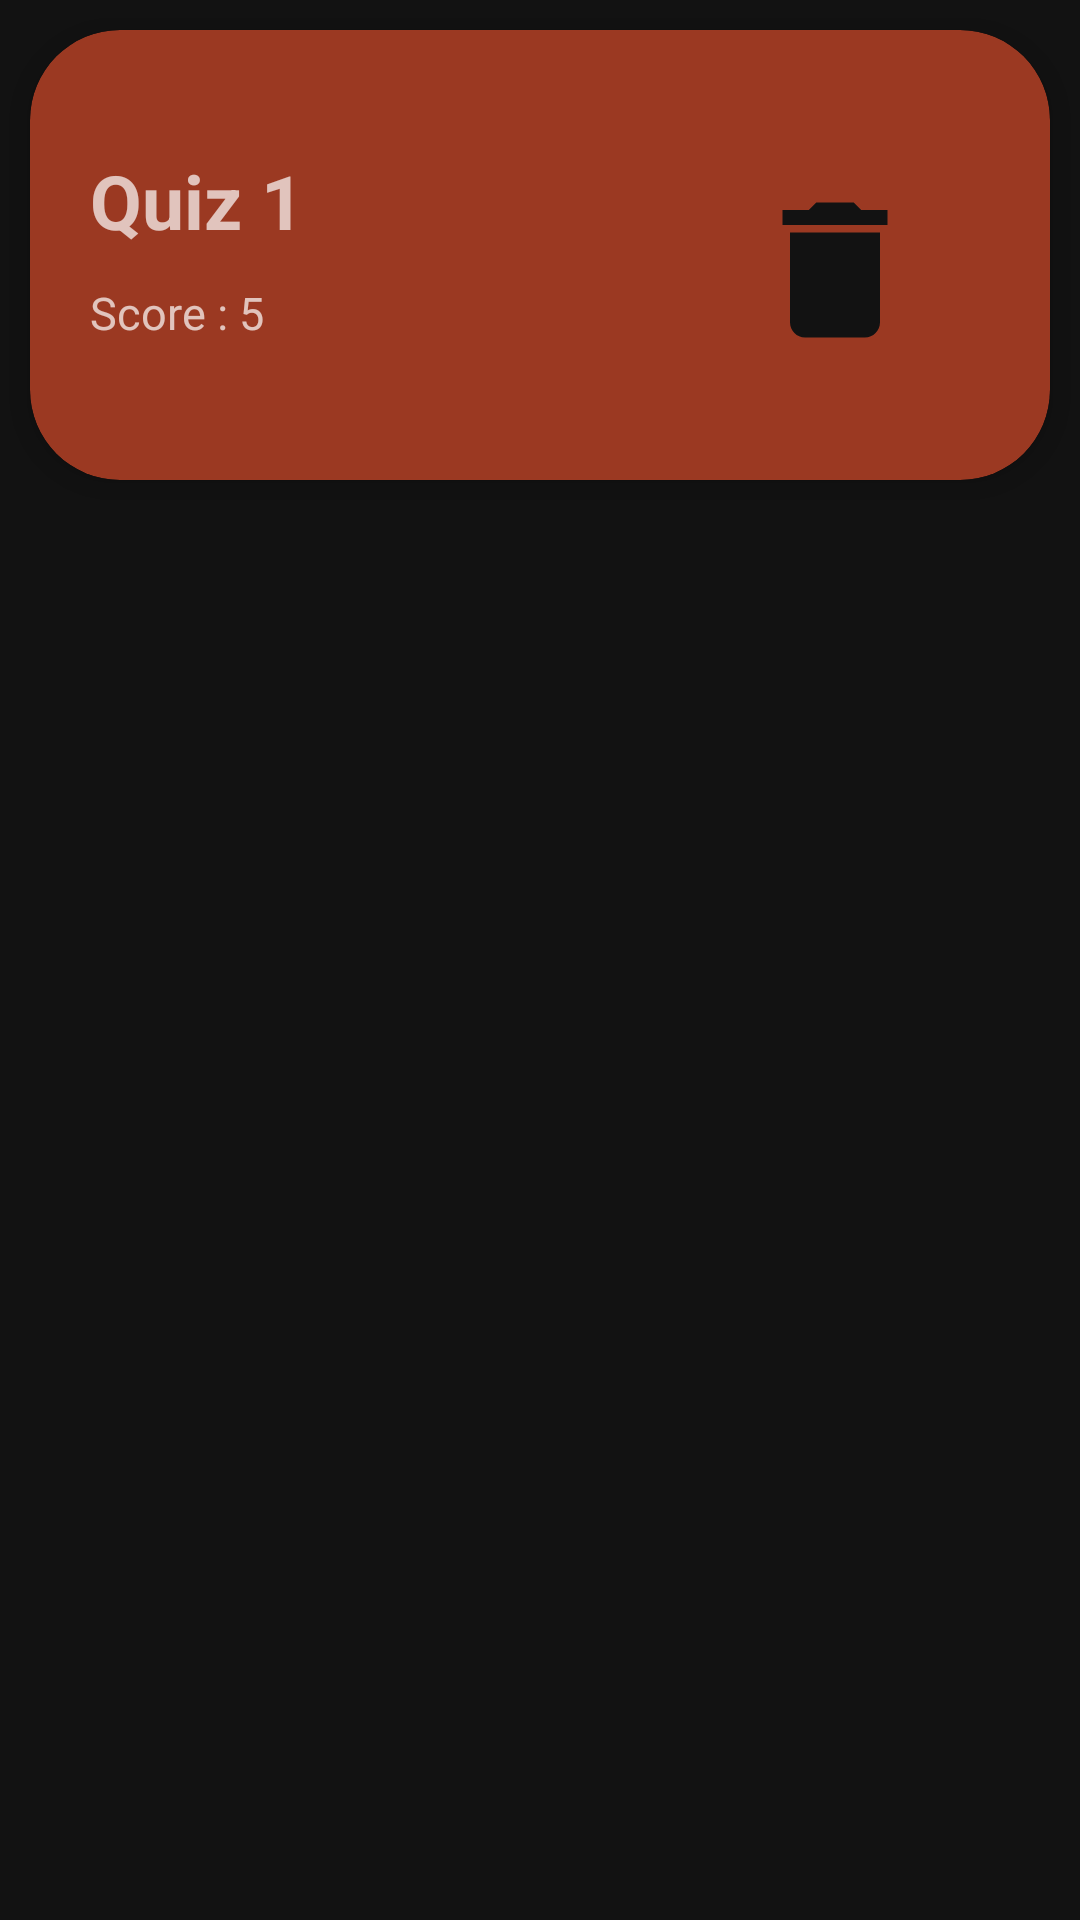

Screen size 1080*1920. Icon name, then its center in pixels as (x=x, y=y):
delete: (x=835, y=270)
